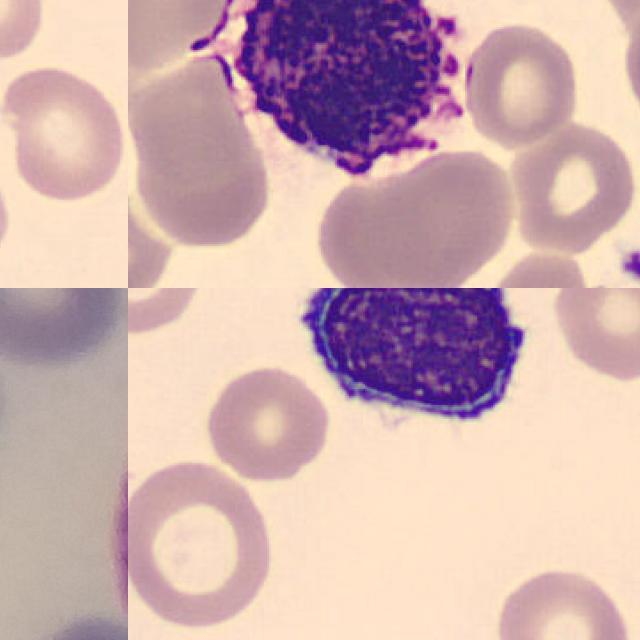Basophil: (200, 0, 481, 192)
Lymphocyte: (279, 288, 541, 458)
Platelets: (616, 243, 640, 286)
RBC: (128, 452, 283, 639), (368, 141, 518, 288), (504, 118, 640, 258), (0, 62, 128, 206), (198, 361, 333, 486), (462, 19, 583, 151), (487, 562, 637, 640), (148, 493, 241, 597), (546, 288, 640, 384), (128, 0, 235, 74), (128, 288, 207, 341), (0, 0, 50, 60), (621, 0, 640, 141), (0, 152, 17, 270)
